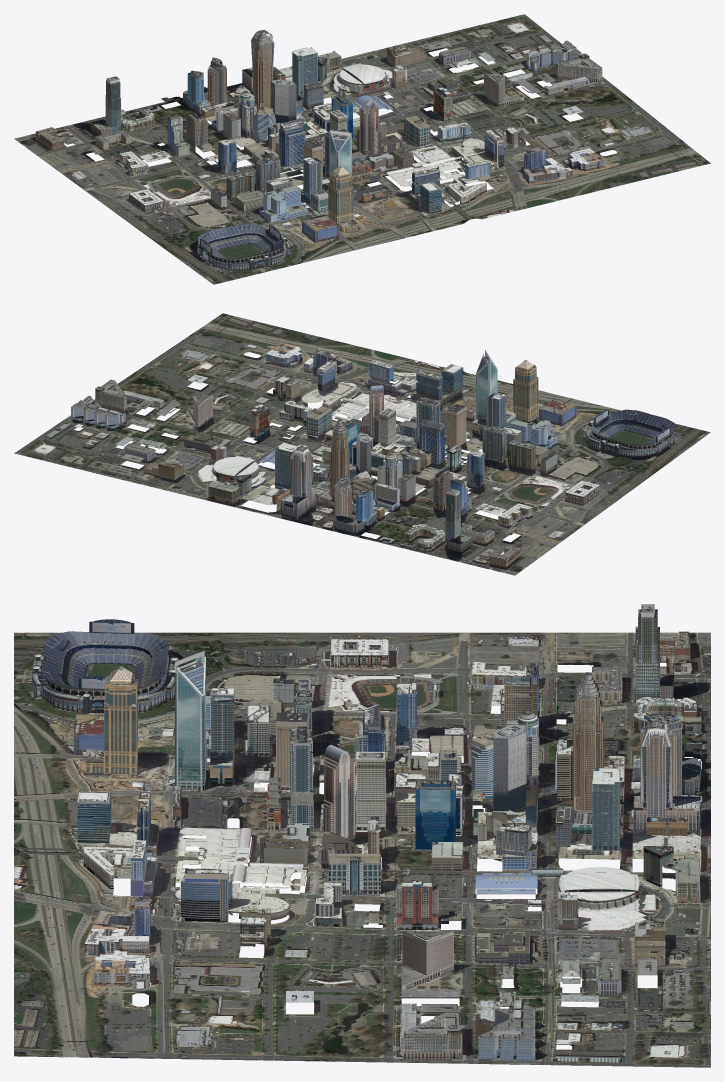
File: city.glb
3 views of the same model, one above another, from view 1: azimuth 30°, elevation 25°; view 2: azimuth 150°, elevation 25°; view 3: azimuth 270°, elevation 25° (orthographic). The views are drawn at different scales.
Parts seen in each view (by area): view 1: Material3 (×30), Material2 (×9); view 2: Material3 (×33), Material2 (×8); view 3: Material3 (×34), Material2 (×8).
Boxes of the visible parts, x1=… form: Material3 (×30): x1=14, y1=30, x2=710, y2=284; Material2 (×9): x1=66, y1=14, x2=641, y2=270; Material3 (×33): x1=71, y1=313, x2=710, y2=575; Material2 (×8): x1=14, y1=350, x2=674, y2=552; Material3 (×34): x1=14, y1=604, x2=710, y2=1061; Material2 (×8): x1=32, y1=605, x2=710, y2=1067.
Size of what is drawn, in the model's own units: 69101 by 10570 by 46782.
Materials: 99 (99 with a texture image).
